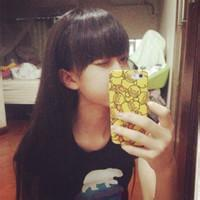face: (81, 47, 131, 105)
